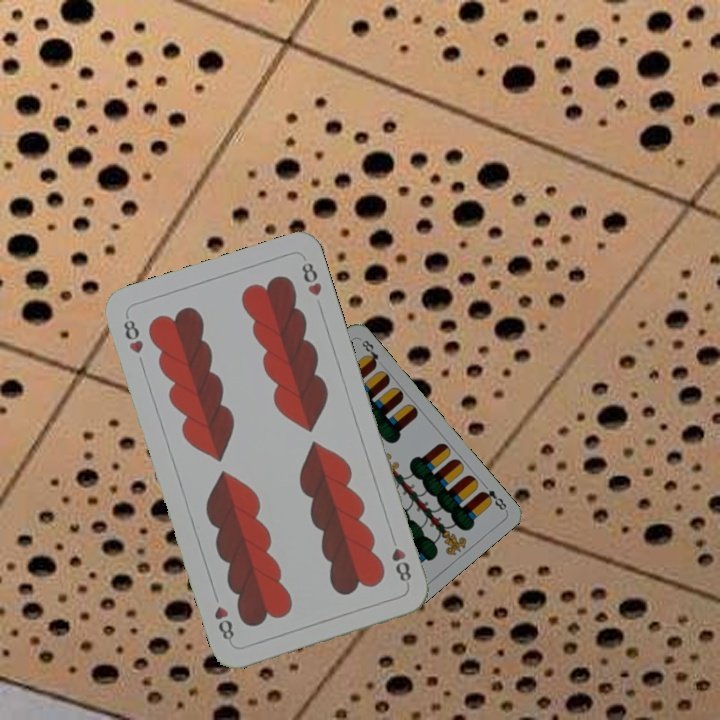E8: (476, 486, 509, 513)
H8: (386, 531, 414, 584), (119, 311, 146, 357)
